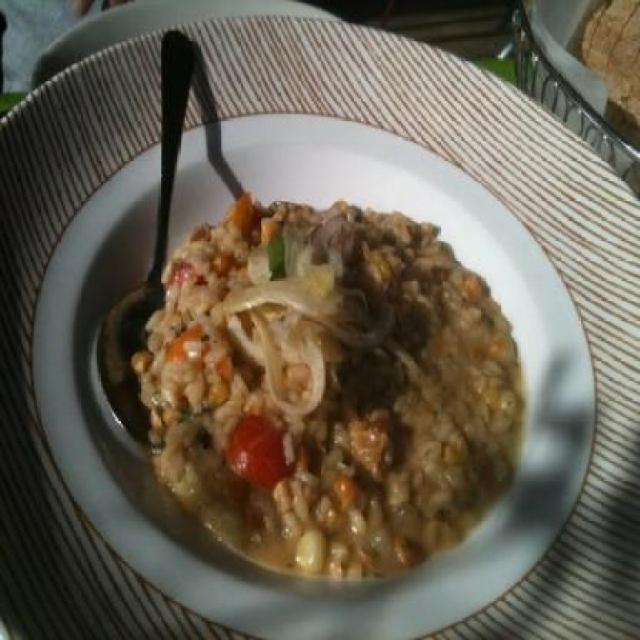Risotto: (137, 174, 540, 572)
